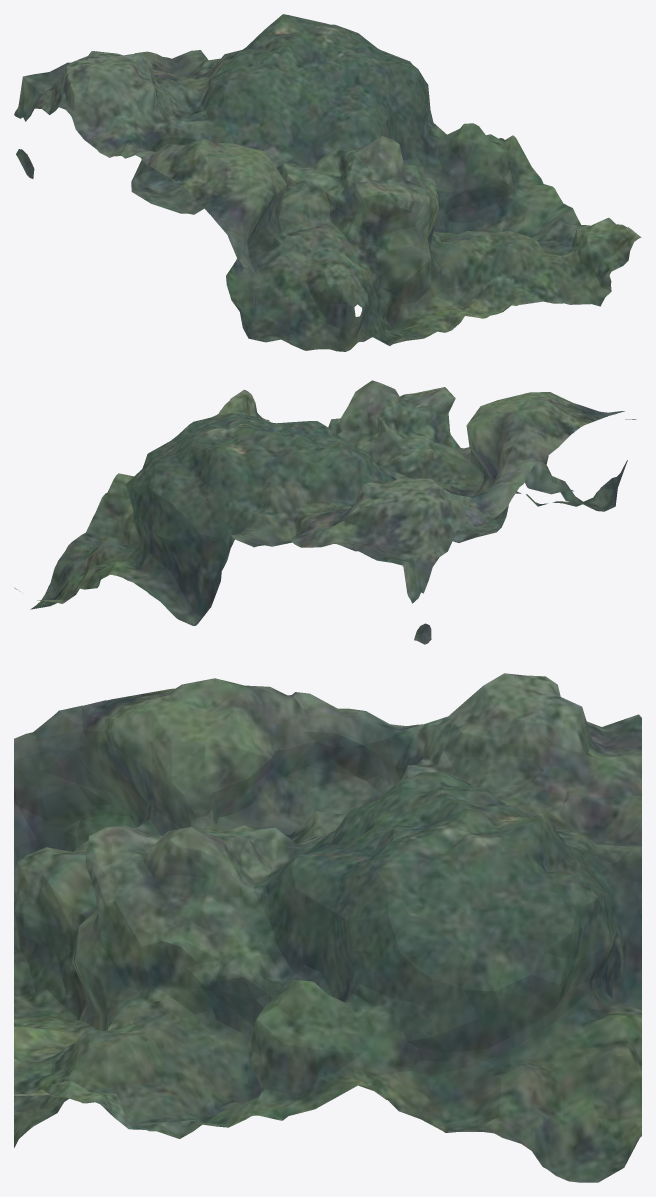
Rendered from Tile_+005_+006_L21_0003200.glb.
The picture shows the model from 3 angles, top to bottom: view 1: azimuth 30°, elevation 25°; view 2: azimuth 150°, elevation 25°; view 3: azimuth 270°, elevation 25°; orthographic projection. The views are drawn at different scales.
Visible parts, largest first — view 1: rtc; view 2: rtc; view 3: rtc.
Part boxes in pixels (left/top/right/bottom): rtc: left=14, top=14, right=641, bottom=351; rtc: left=14, top=380, right=636, bottom=644; rtc: left=14, top=673, right=641, bottom=1182.
Bounding box in the file's own units: 12.63 × 5.81 × 12.63.
Materials: 1 (1 with a texture image).
